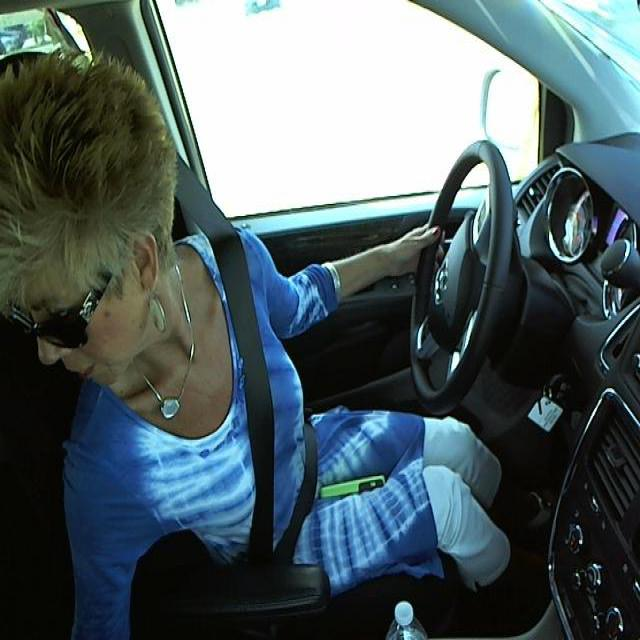seatbelt: (221, 254, 324, 554)
